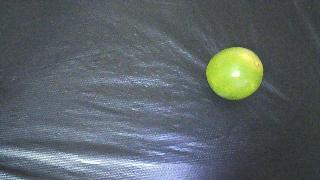LOCAL: (206, 47, 263, 100)
